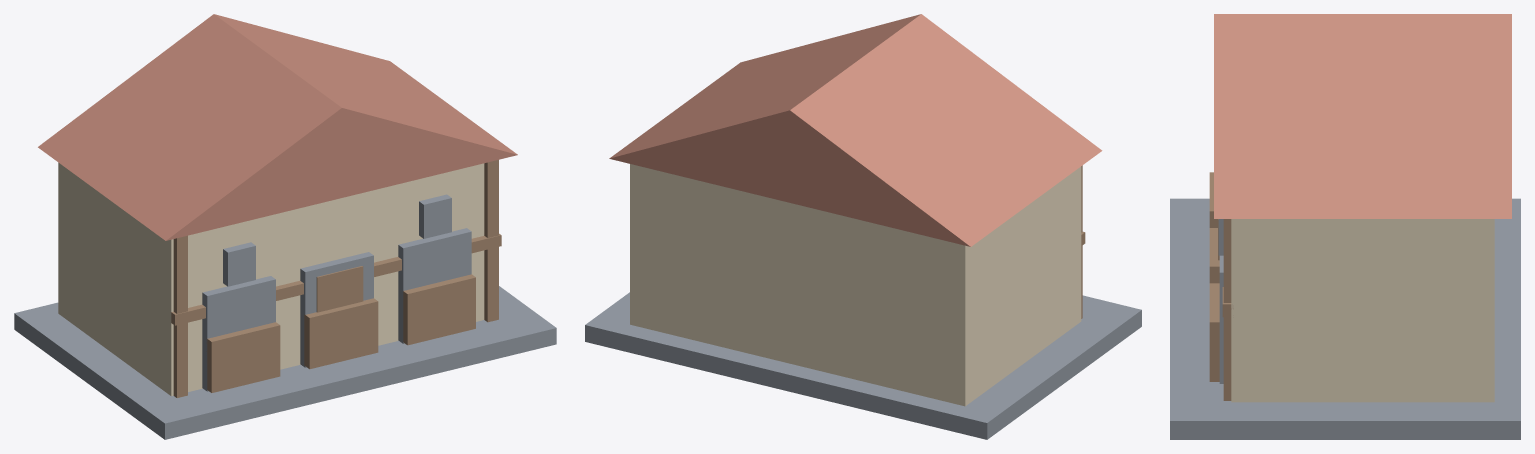
Rendered from establo.glb.
3 views of the same model, side by side, from view 1: azimuth 30°, elevation 25°; view 2: azimuth 150°, elevation 25°; view 3: azimuth 270°, elevation 25° (orthographic). The views are drawn at different scales.
Parts seen in each view (by area): view 1: world; view 2: world; view 3: world.
Part boxes in pixels (<box>): world: <box>14,14,556,439</box>; world: <box>585,14,1141,439</box>; world: <box>1170,14,1520,439</box>.
Size of the model in its own units: 6 by 3.96 by 4.
